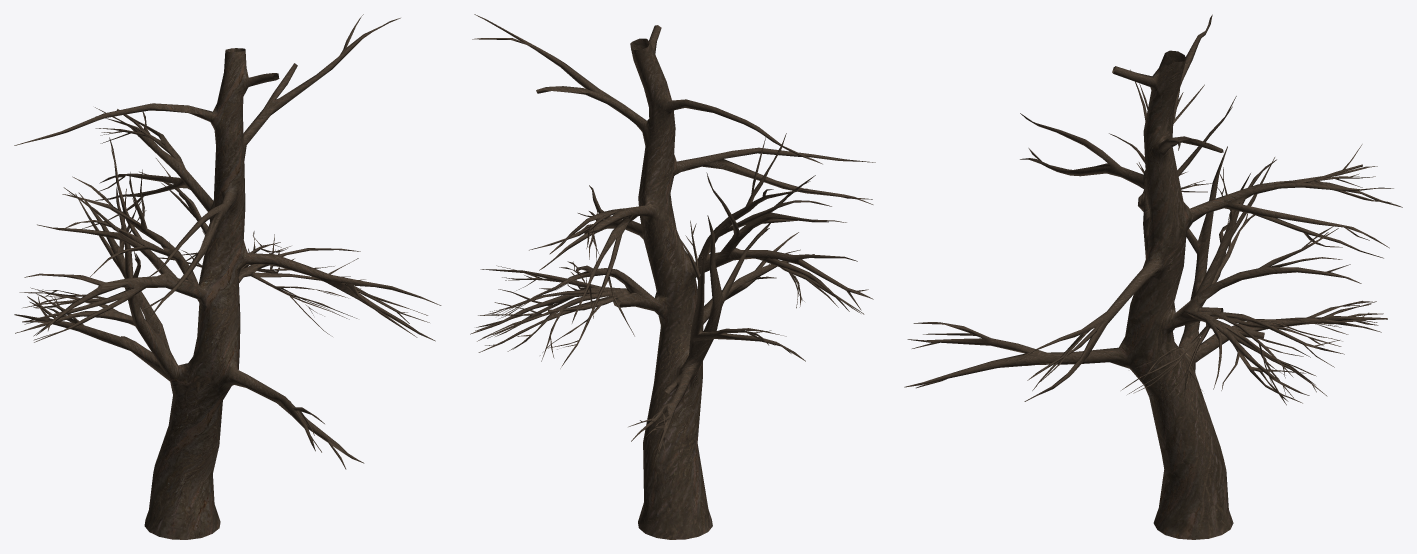
The model's file is willow_tree.gltf.
The picture shows the model from 3 angles, left to right: view 1: azimuth 30°, elevation 25°; view 2: azimuth 150°, elevation 25°; view 3: azimuth 270°, elevation 25°; orthographic projection. The views are drawn at different scales.
Parts seen in each view (by area): view 1: tree; view 2: tree; view 3: tree.
Part boxes in pixels (left/top/right/bottom): tree: left=14, top=14, right=441, bottom=539; tree: left=470, top=14, right=875, bottom=539; tree: left=904, top=14, right=1402, bottom=539.
Size of the model in its own units: 11.59 by 13.56 by 12.45.
